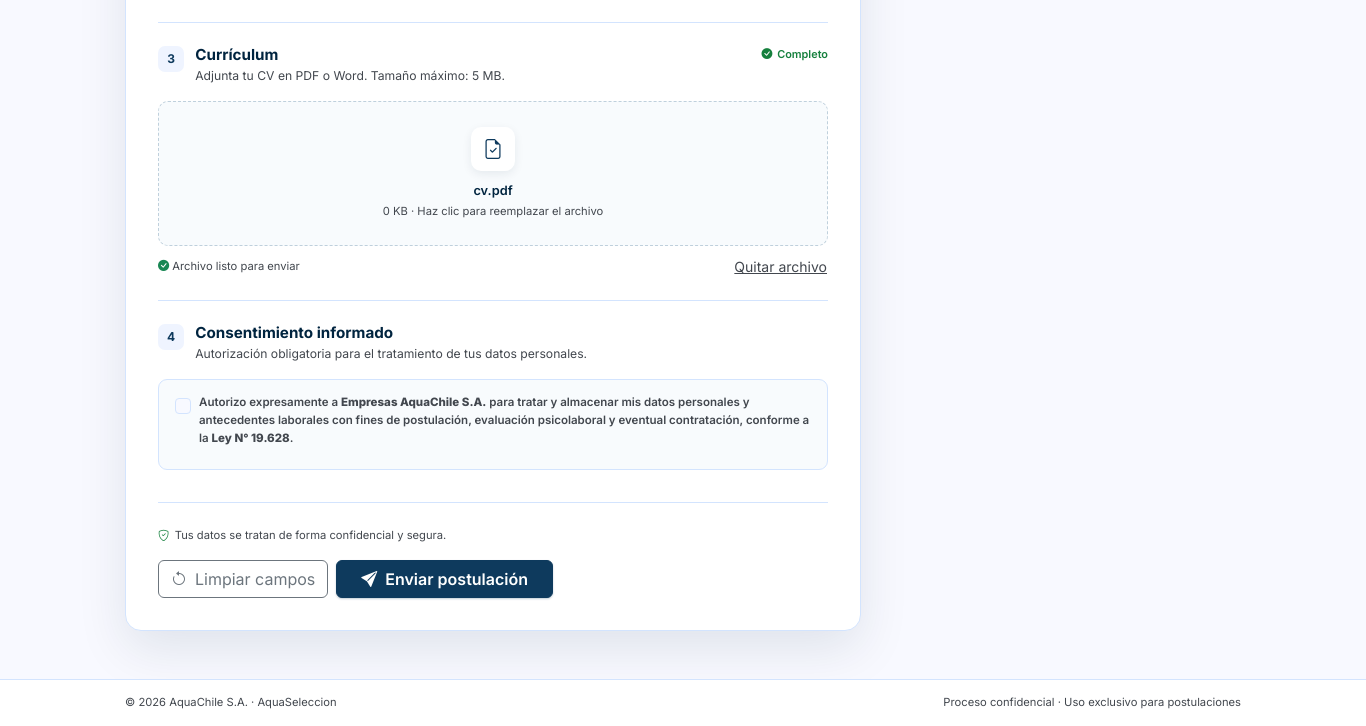
Postular: validacion del formulario › muestra el modal de error y conserva el formulario
Earlier steps of the test are not shown.
(page scrolled)
Step 1. Click the checkbox labelled "Autorizo" → (183, 406), box [175,398,191,414]
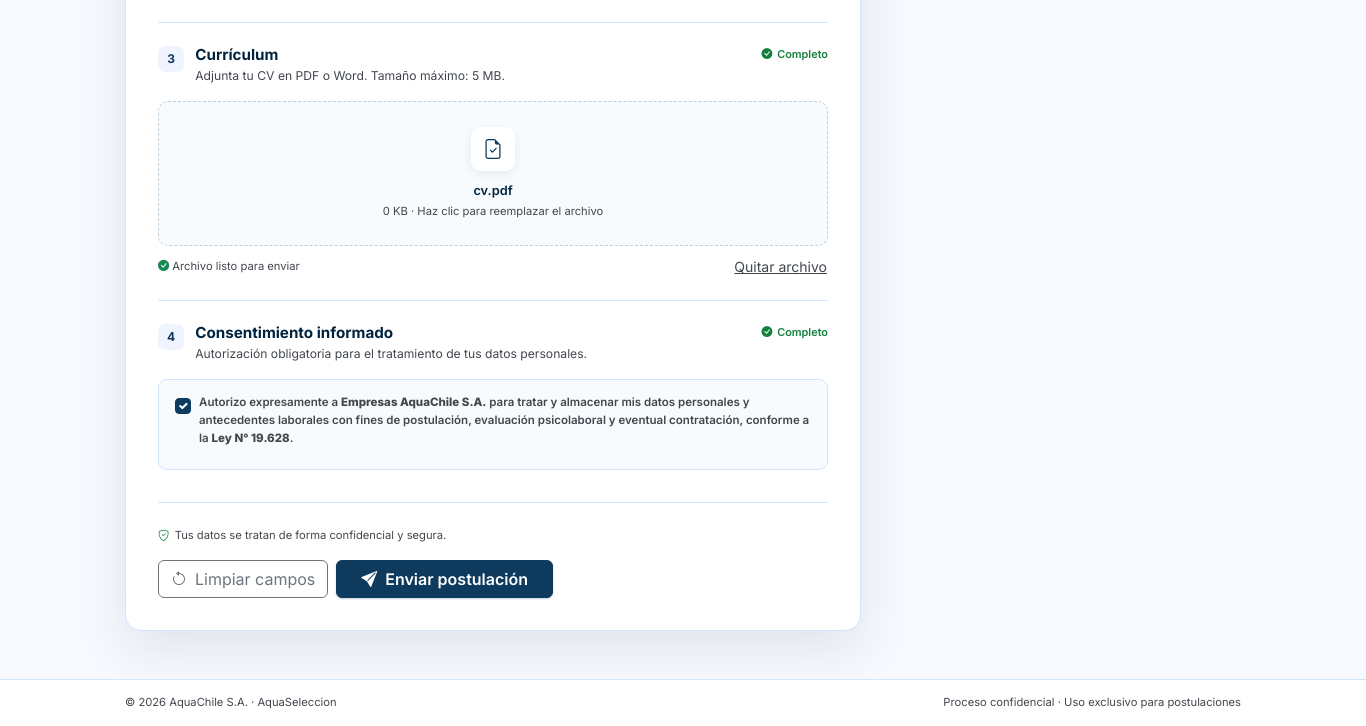
Step 2. Click the button "Enviar postulación" → (445, 579), box [336,560,553,598]
(page scrolled)
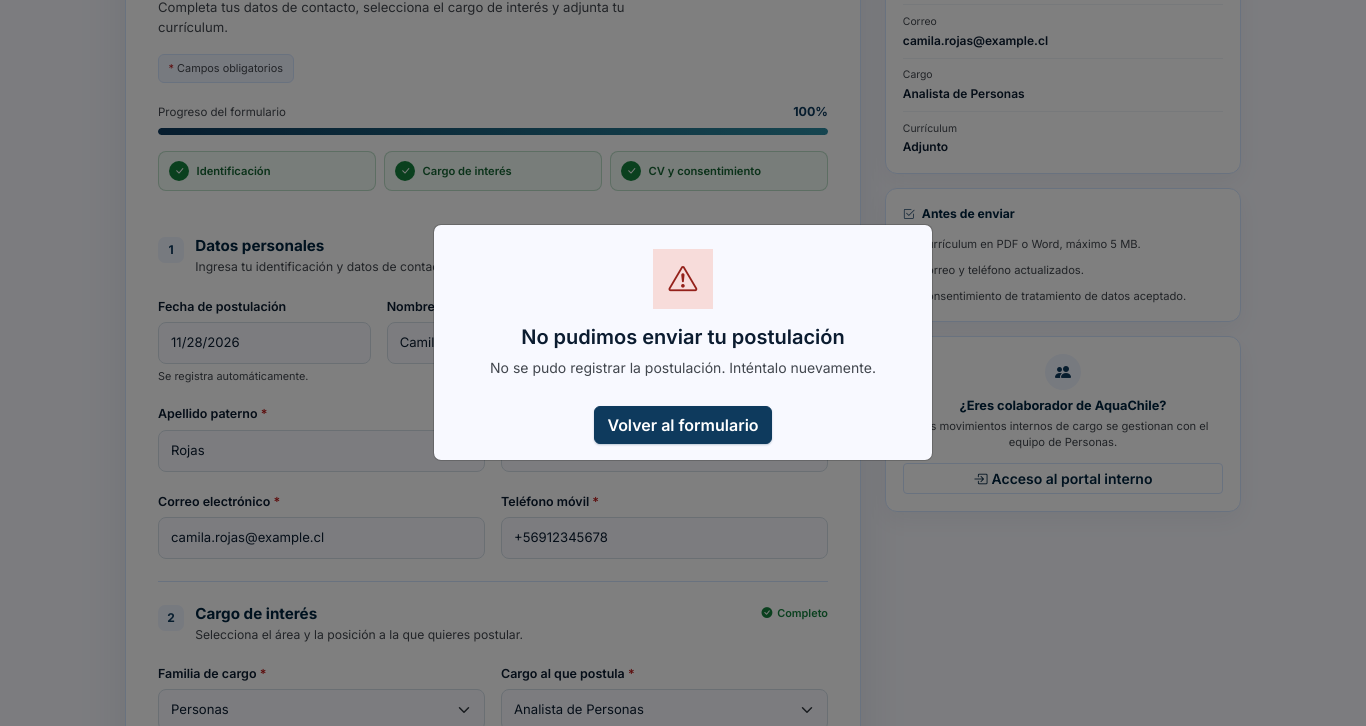
Expected: the field labelled "Nombres completos *" holds "Camila", [387,322,828,364]
Now the heading "No pudimos enviar tu postulación" is shown, box [521,324,845,348]
Now the text "No se pudo registrar la postulación. Inténtalo nuevamente." is shown, box [458,356,908,378]
